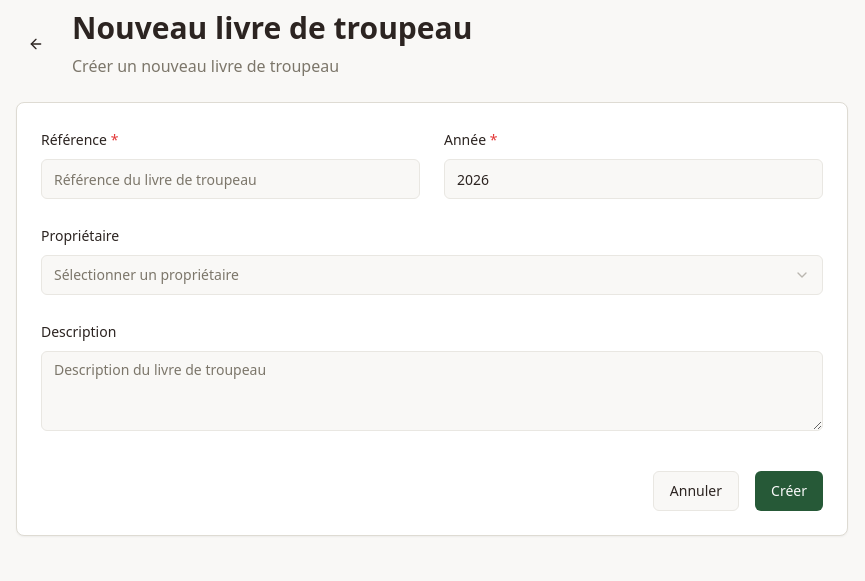
Test: HerdBookCreatePage › should show validation error when reference is missing
Click the button "Créer" at (789, 491), box [755, 471, 823, 511]
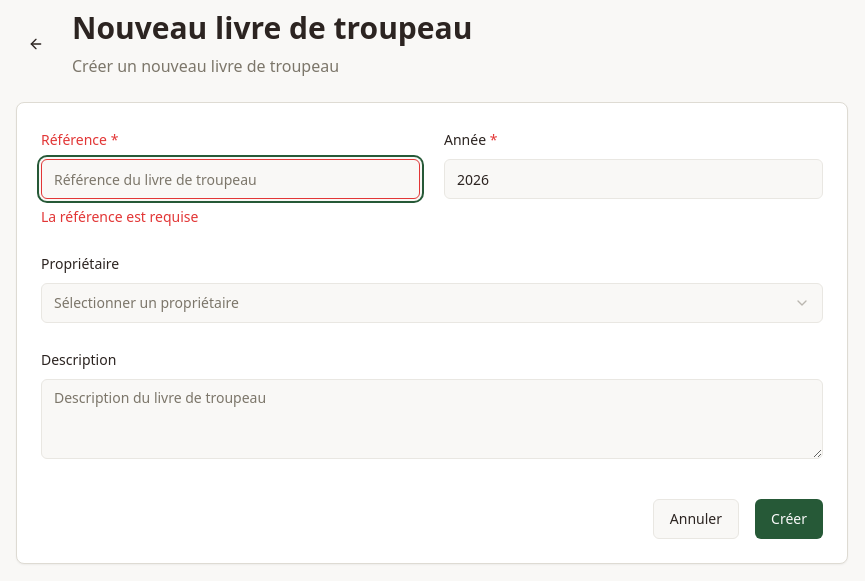
Result: the text "La référence est requise" is shown at [41, 207, 198, 226]
